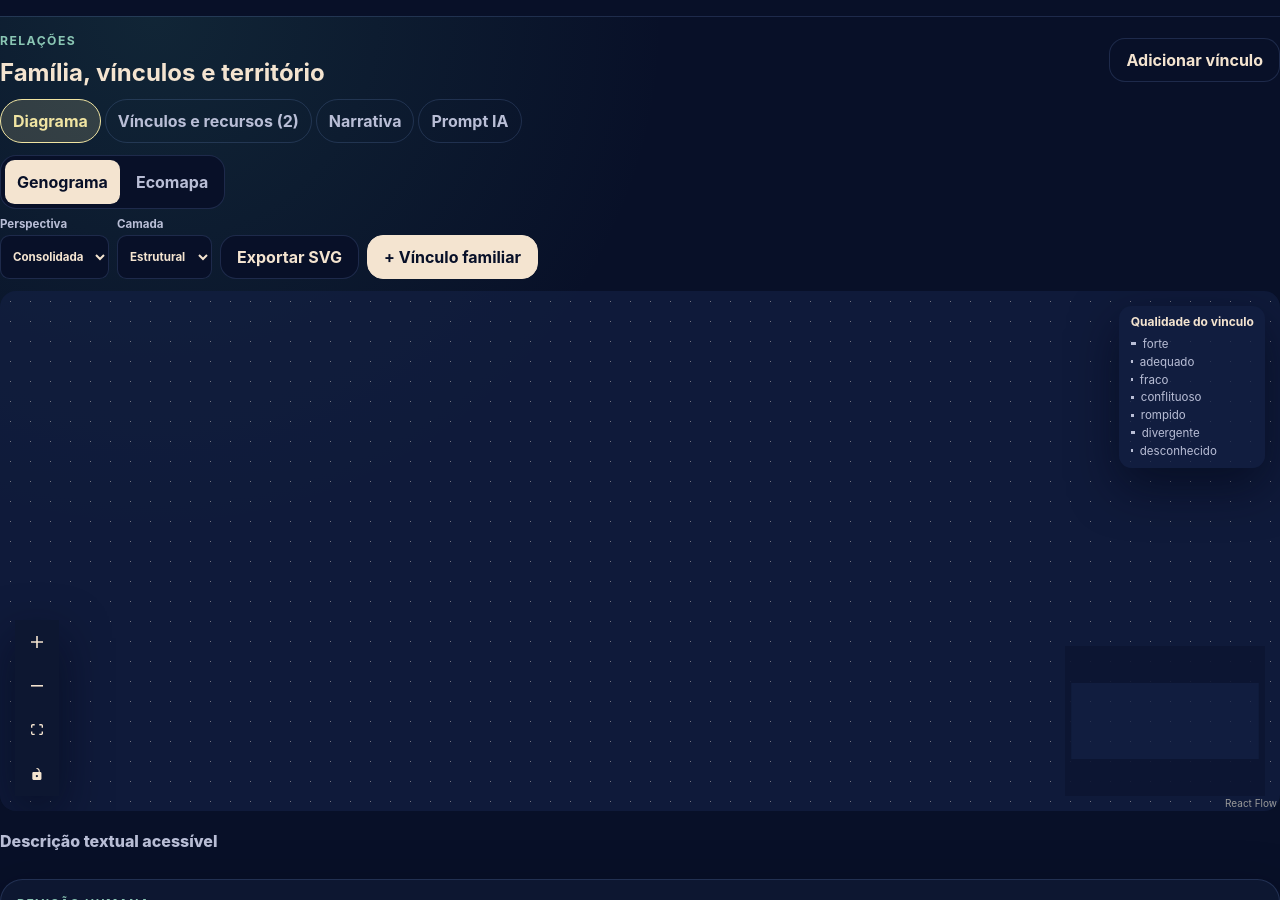
Test case: revisao de vinculos › abre edicao com os dados do vinculo e exige motivo
What coordinates should you click on to do the following:
click the tab "Vínculos e recursos (2)"
I would click on:
 (208, 121)
Its box is [105,99,312,143].
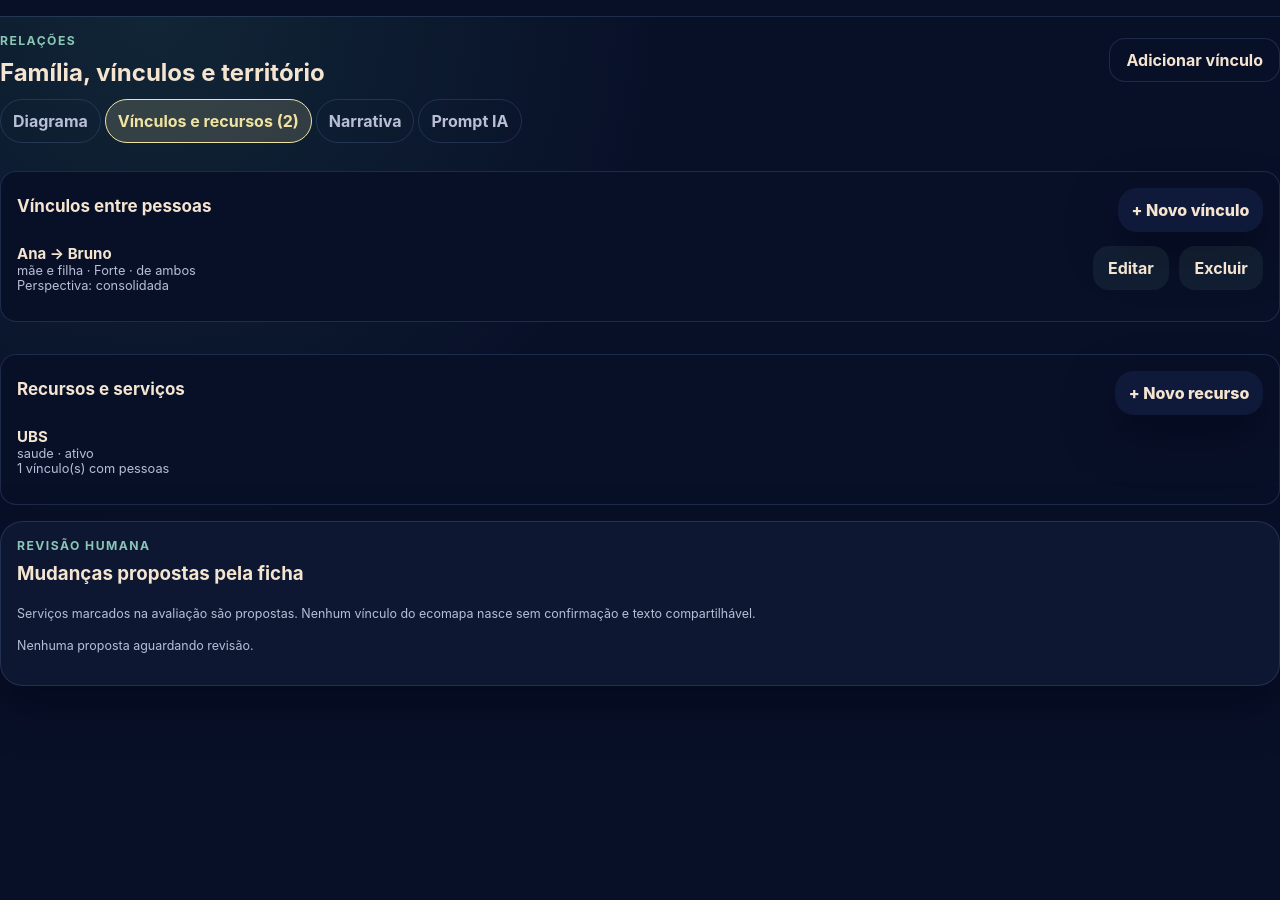
What coordinates should you click on to do the following:
click the button "Editar"
I would click on:
 (1131, 268)
Its box is [1093,246,1169,290].
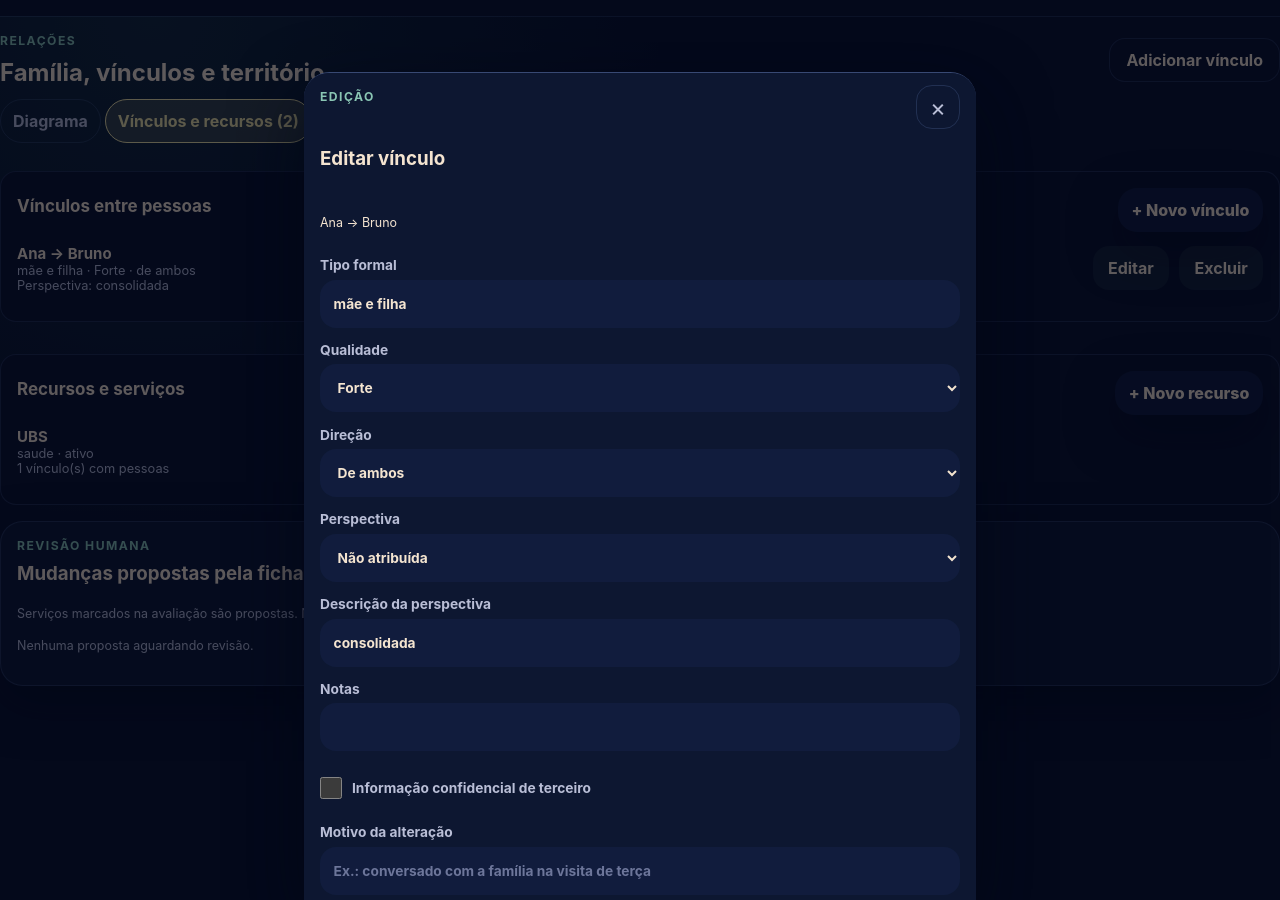
Check: the field showing "mãe e filha" is shown, box [320,280,960,328]
Check: the field labelled "Motivo da alteração" is shown, box [320,847,960,895]
